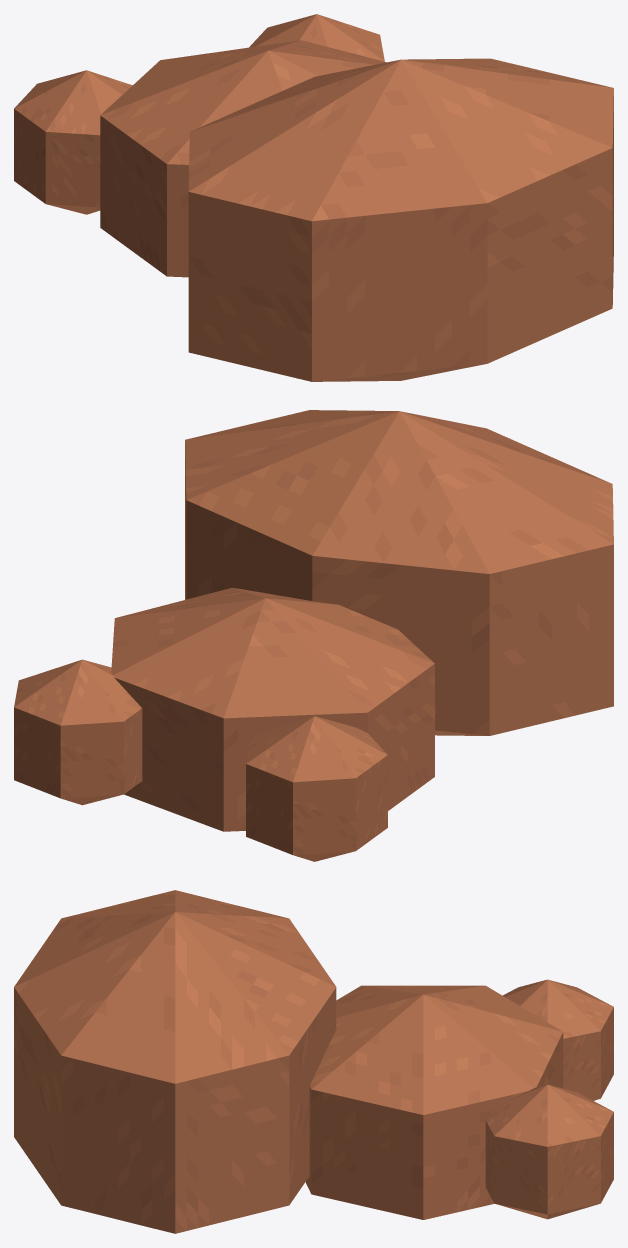
The model's file is gummy_vitamins.glb.
3 renders of one model, top to bottom at view 1: azimuth 30°, elevation 25°; view 2: azimuth 150°, elevation 25°; view 3: azimuth 270°, elevation 25°, orthographic. The views are drawn at different scales.
Visible parts, largest first — view 1: block_gummy body, block_gummy head, block_ear -0.003, block_ear 0.003; view 2: block_gummy body, block_gummy head, block_ear -0.003, block_ear 0.003; view 3: block_gummy body, block_gummy head, block_ear 0.003, block_ear -0.003.
Part boxes in pixels (<box>): block_gummy body: <box>188,58,613,381</box>; block_gummy head: <box>100,40,386,277</box>; block_ear -0.003: <box>14,70,132,214</box>; block_ear 0.003: <box>249,14,384,61</box>; block_gummy body: <box>185,410,613,735</box>; block_gummy head: <box>111,588,434,831</box>; block_ear -0.003: <box>246,716,387,861</box>; block_ear 0.003: <box>14,659,142,805</box>; block_gummy body: <box>14,890,336,1233</box>; block_gummy head: <box>305,985,563,1219</box>; block_ear 0.003: <box>485,1084,613,1219</box>; block_ear -0.003: <box>503,979,613,1100</box>.
Bounding box in the file's own units: 0.0111 × 0.008 × 0.0145.
1 material, 1 textured.
